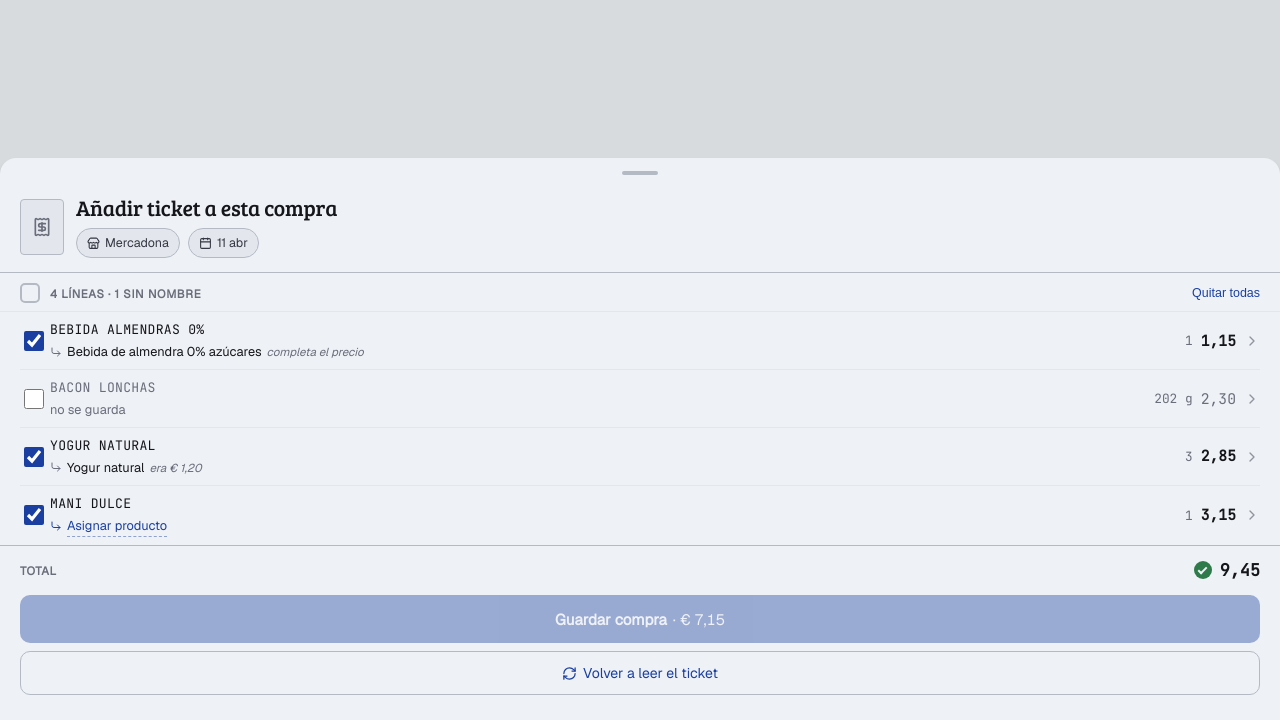
Test case: ReceiptScanSheet — targeted attach (25b) › annotates each line as fill, correction, or no-op
The image size is (1280, 720).
Expected: the text "completa el precio" is shown, [267,343,364,360]
Expected: the text "era € 1,20" is shown, [149,459,202,476]
Click the checkbox named "BACON LONCHAS" at x=34, y=399, box [24,389,44,409]
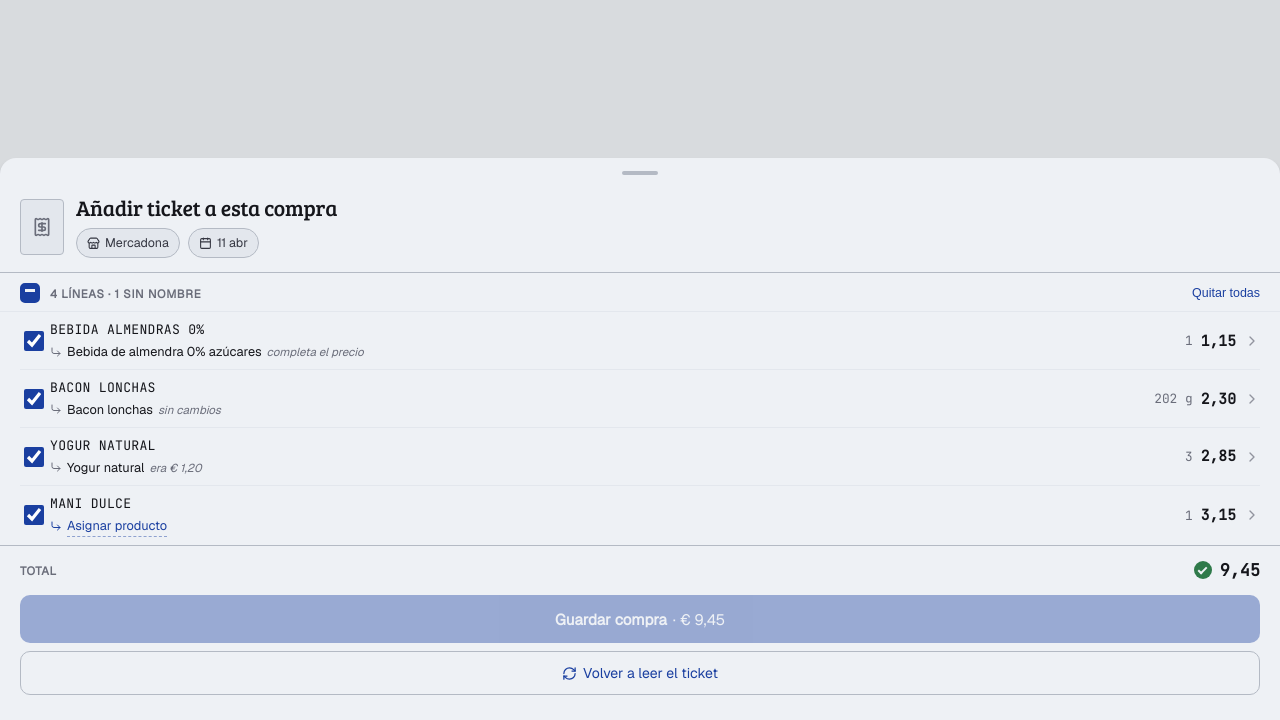
Expected: the text "sin cambios" is shown, [158,401,221,418]
